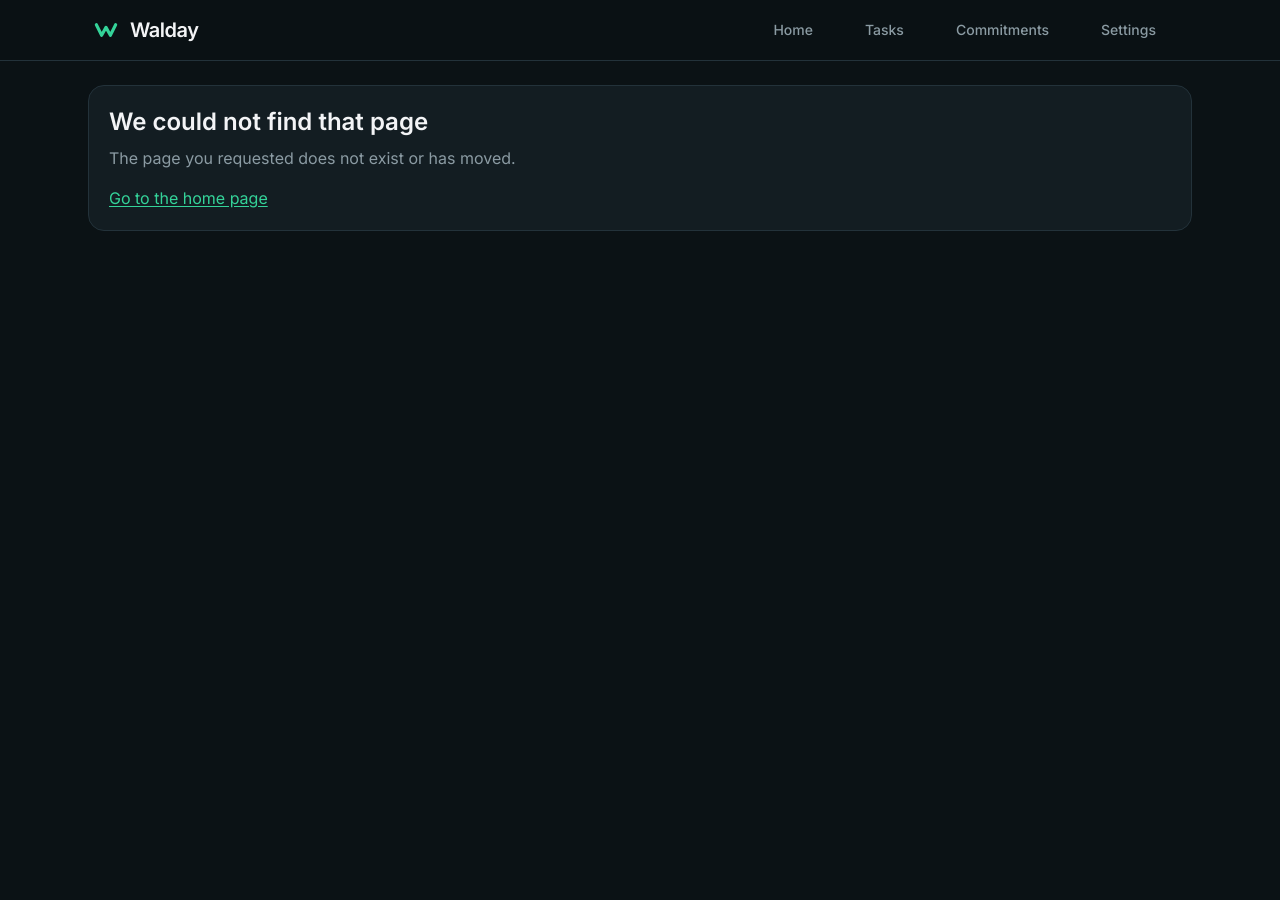
Test: not-found recovery (US2) › shows a localized explanation and a working home link for an unknown nested path
expect the heading "We could not find that page" is shown: met, box [109,107,428,136]
Click the link "Go to the home page" at (188, 198), box [109,188,268,208]
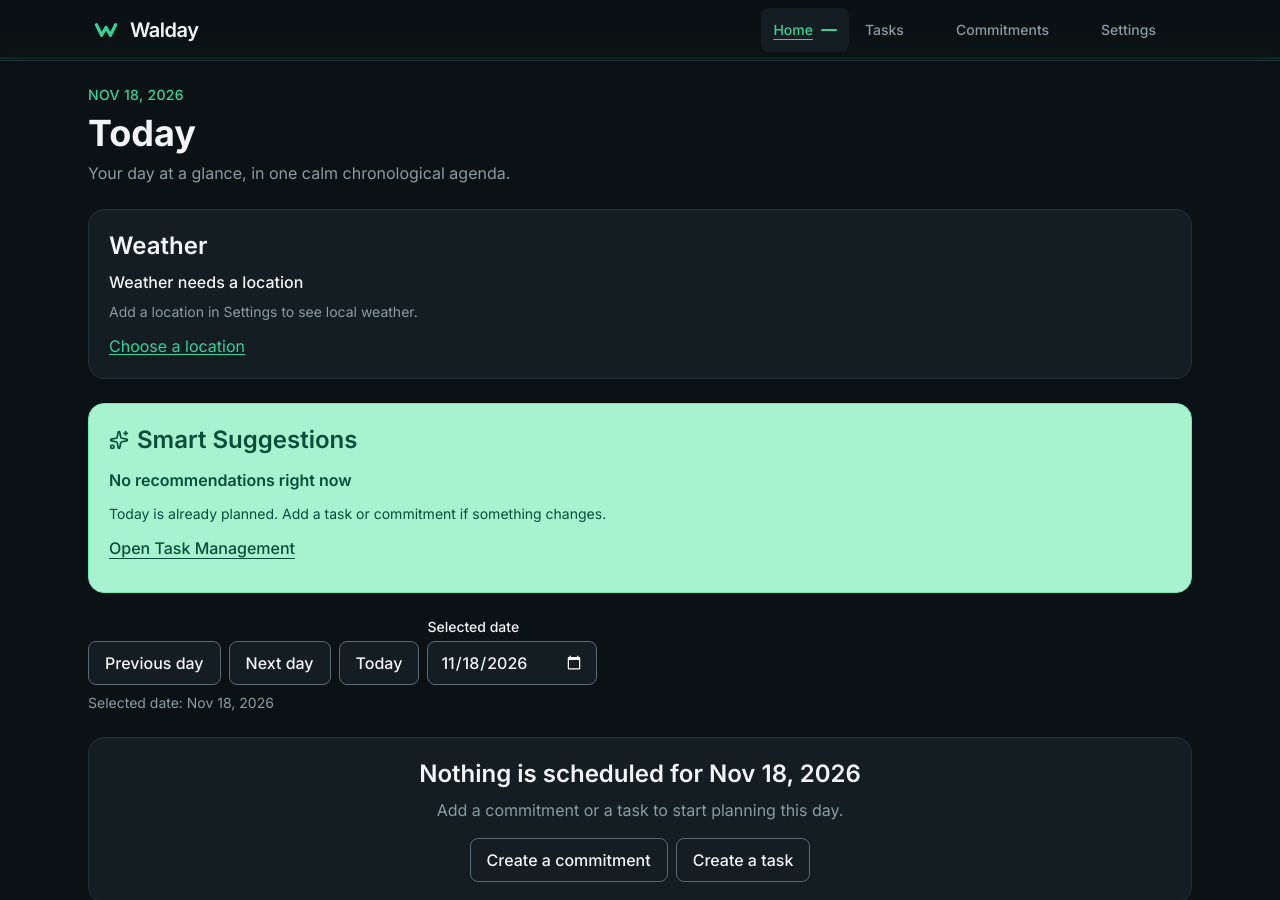
expect the heading "Today" is shown: met, box [88,111,196,155]
